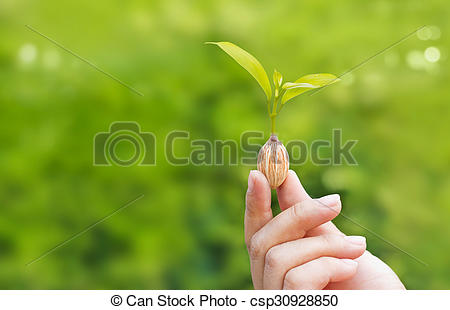finger: (251, 190, 347, 287), (262, 231, 367, 288), (284, 256, 359, 288), (244, 169, 272, 244)
